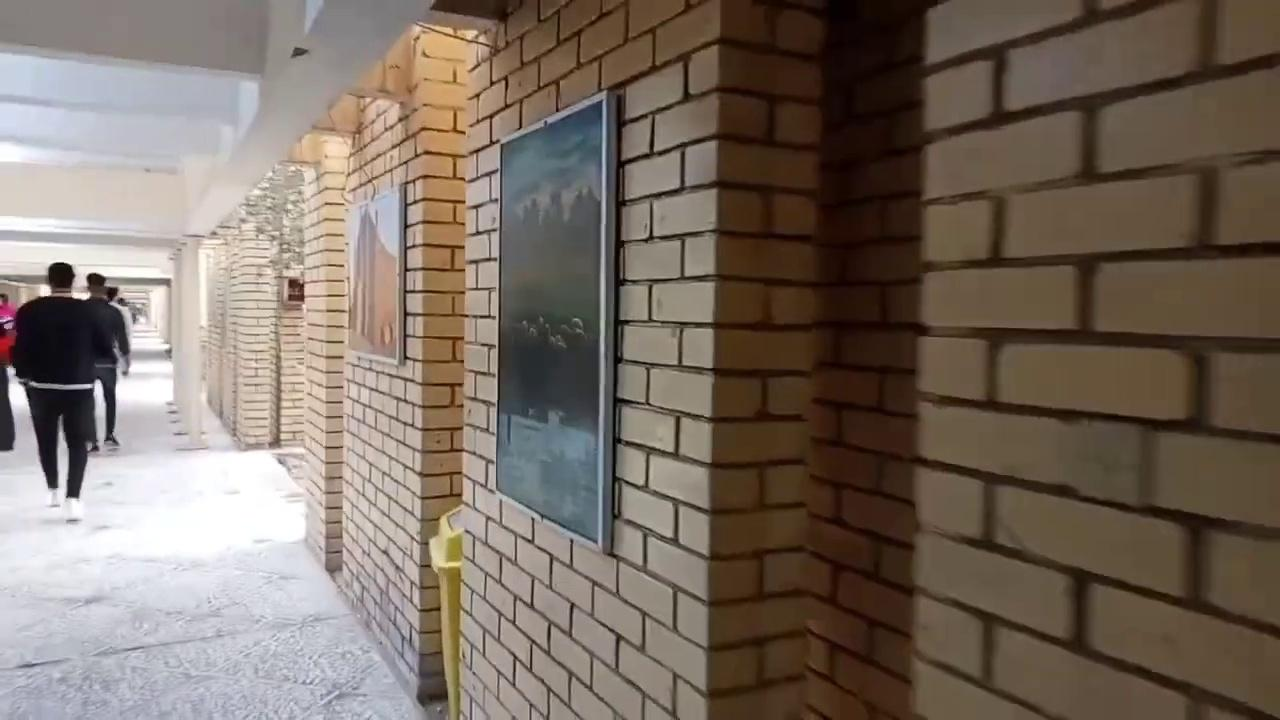person: (11, 261, 120, 522), (82, 272, 131, 452), (0, 293, 17, 449)
tree: (201, 161, 307, 449)
